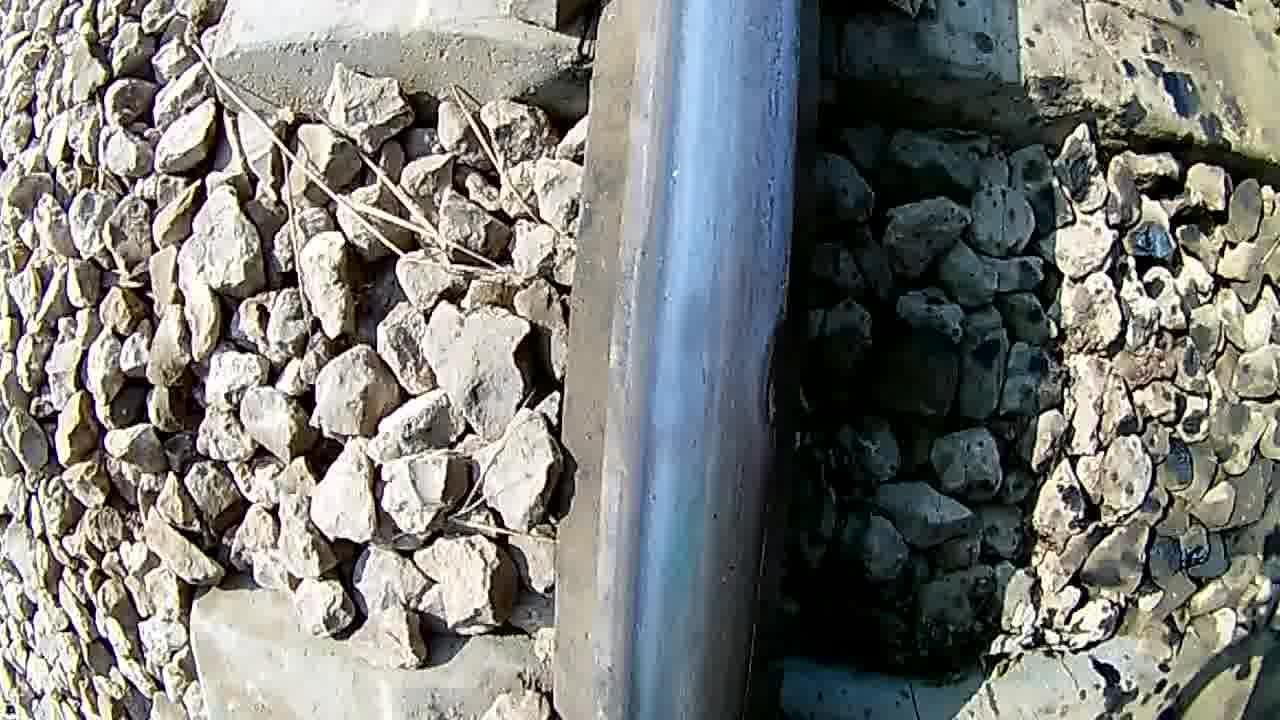crack: (602, 0, 771, 720)
